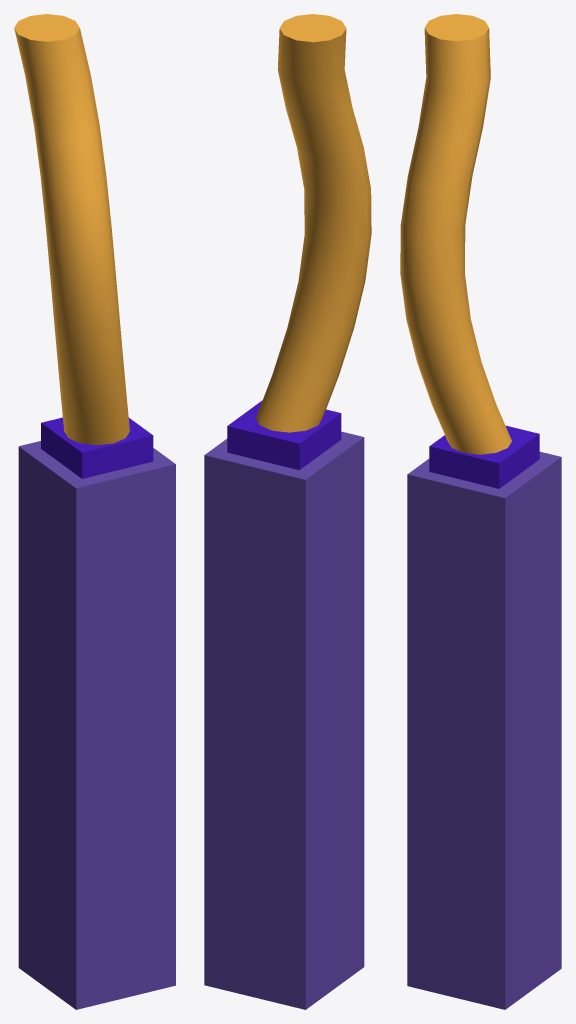
File: PinConnector.fbx
The picture shows the model from 3 angles, left to right: view 1: azimuth 30°, elevation 25°; view 2: azimuth 150°, elevation 25°; view 3: azimuth 330°, elevation 25°; orthographic projection. The views are drawn at different scales.
Parts seen in each view (by area): view 1: Cube, Sweep NURBS, Cube.1; view 2: Cube, Sweep NURBS, Cube.1; view 3: Cube, Sweep NURBS, Cube.1.
Part boxes in pixels (left/top/right/bottom): Cube: left=18, top=441, right=175, bottom=1009; Sweep NURBS: left=14, top=14, right=129, bottom=445; Cube.1: left=41, top=417, right=153, bottom=478; Cube: left=204, top=431, right=364, bottom=1009; Sweep NURBS: left=256, top=14, right=371, bottom=432; Cube.1: left=227, top=400, right=341, bottom=469; Cube: left=407, top=451, right=561, bottom=1009; Sweep NURBS: left=400, top=14, right=511, bottom=454; Cube.1: left=429, top=425, right=539, bottom=488.
Size of the model in its own units: 8.25 by 63.78 by 7.86.
